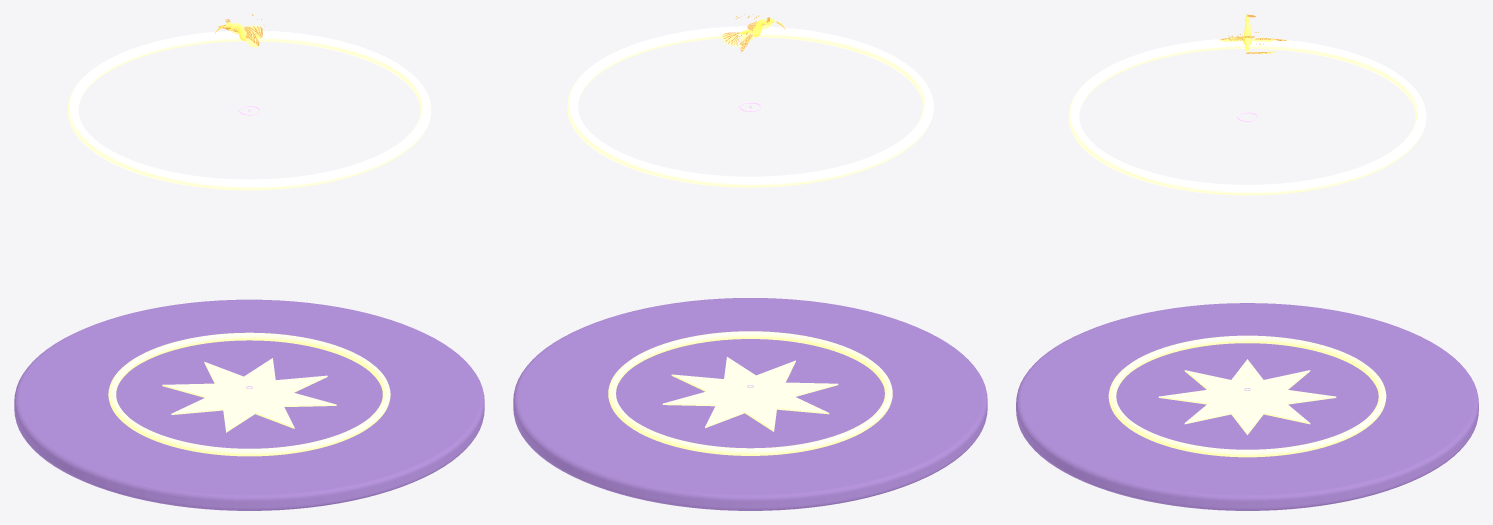
The picture shows the model from 3 angles, left to right: view 1: azimuth 30°, elevation 25°; view 2: azimuth 150°, elevation 25°; view 3: azimuth 270°, elevation 25°; orthographic projection. The views are drawn at different scales.
Parts seen in each view (by area): view 1: RitualPlatform, PortalInner, SigilStar, SigilRing; view 2: RitualPlatform, PortalInner, SigilStar, SigilRing; view 3: RitualPlatform, PortalInner, SigilStar, SigilRing.
Boxes of the visible parts, left/top/right/bottom form: RitualPlatform: left=14, top=299, right=484, bottom=510; PortalInner: left=67, top=30, right=431, bottom=190; SigilStar: left=162, top=358, right=336, bottom=432; SigilRing: left=108, top=332, right=390, bottom=456; RitualPlatform: left=513, top=298, right=987, bottom=510; PortalInner: left=567, top=26, right=933, bottom=187; SigilStar: left=662, top=357, right=838, bottom=431; SigilRing: left=608, top=331, right=892, bottom=455; RitualPlatform: left=1016, top=303, right=1478, bottom=510; PortalInner: left=1068, top=38, right=1426, bottom=195; SigilStar: left=1158, top=359, right=1336, bottom=434; SigilRing: left=1108, top=335, right=1386, bottom=457.
Size of the model in its own units: 6 by 5.59 by 6.
